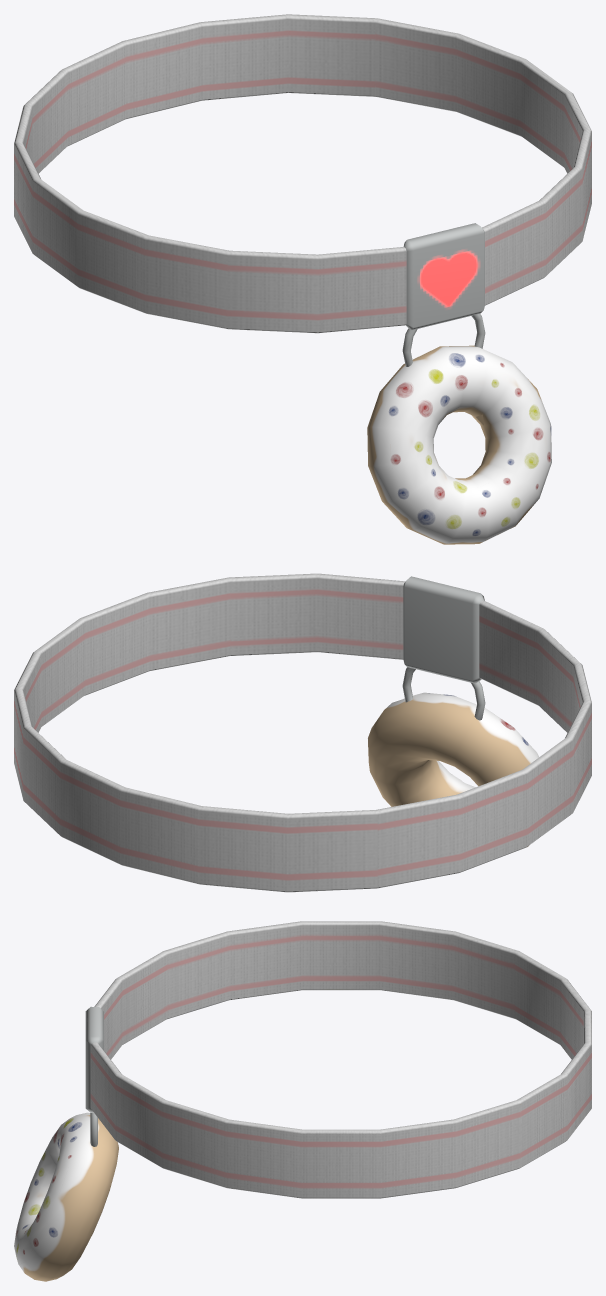
Rendered from donut-necklace.glb.
3 renders of one model, top to bottom at view 1: azimuth 30°, elevation 25°; view 2: azimuth 150°, elevation 25°; view 3: azimuth 270°, elevation 25°, orthographic. The views are drawn at different scales.
Parts seen in each view (by area): view 1: SM_donutnecklace; view 2: SM_donutnecklace; view 3: SM_donutnecklace.
Part boxes in pixels (x1,y1,x2,y2): SM_donutnecklace: [14, 14, 591, 544]; SM_donutnecklace: [14, 573, 591, 892]; SM_donutnecklace: [14, 921, 591, 1281].
Size of the model in its own units: 0.3049 by 0.169 by 0.3516.
Materials: 1 (1 with a texture image).
